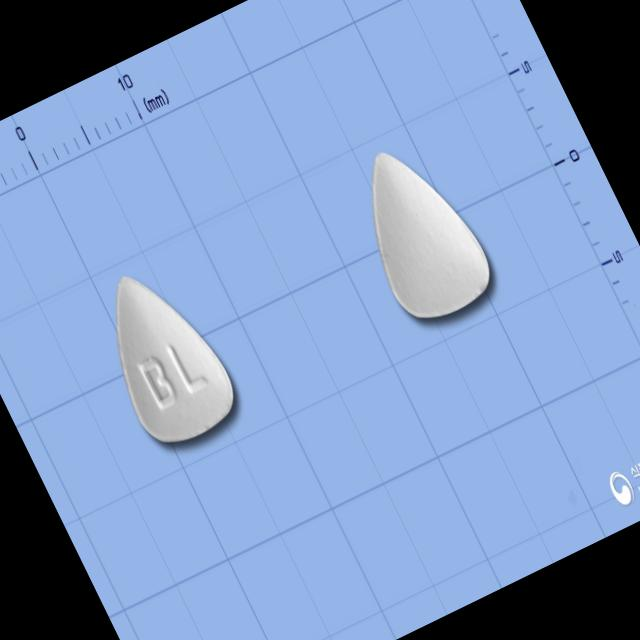Baracle -1mg: (76, 250, 252, 461)
